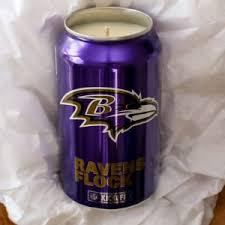beer: (59, 7, 160, 211)
